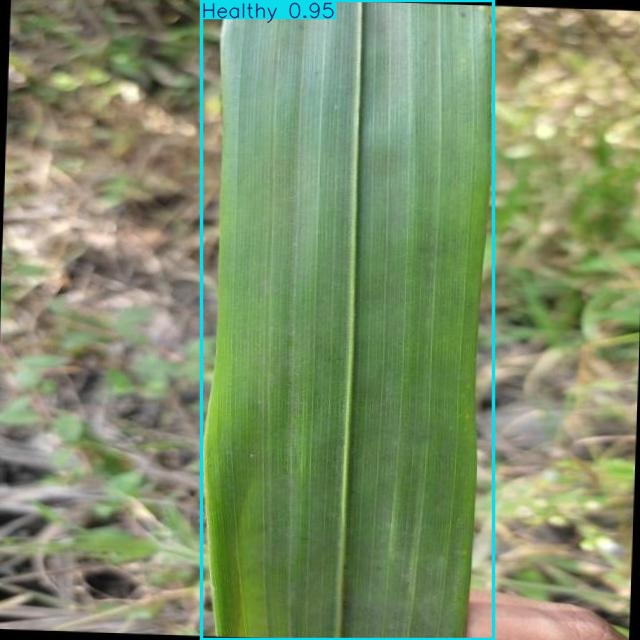Healthy: (202, 0, 494, 640)
